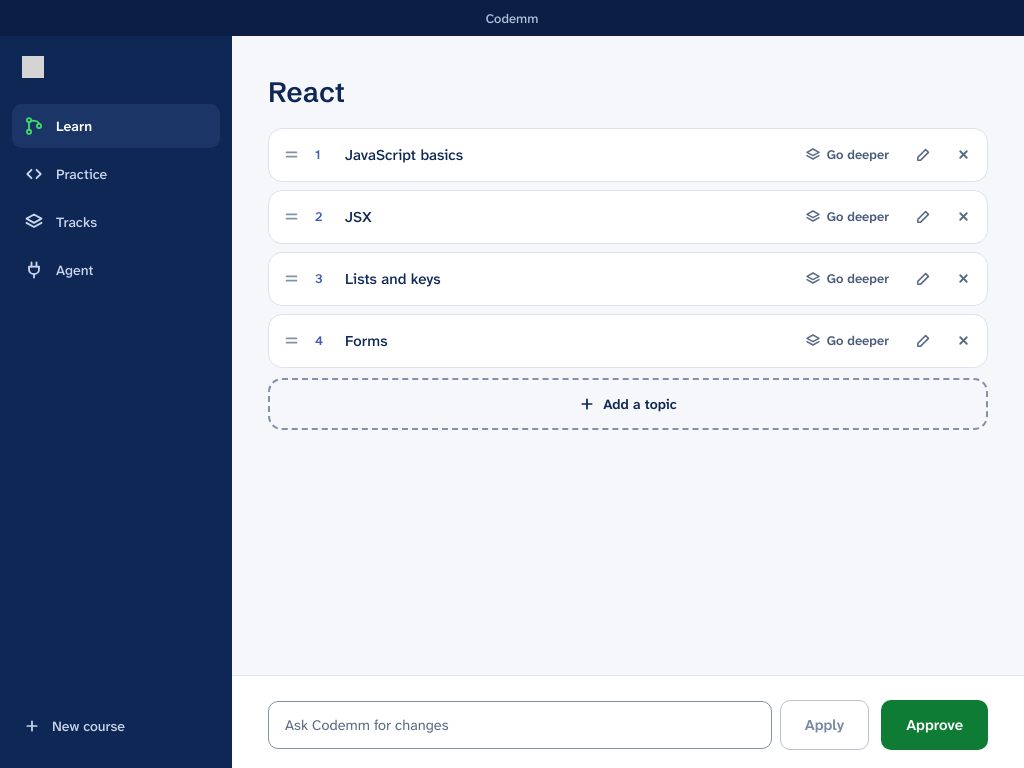
Test: course editor › refuses edits that would break a prerequisite, and says why
Expected: the heading "React" is shown, [268,75,345,109]
Click the button named "Move JSX".
click(291, 217)  # box [275,201,307,233]
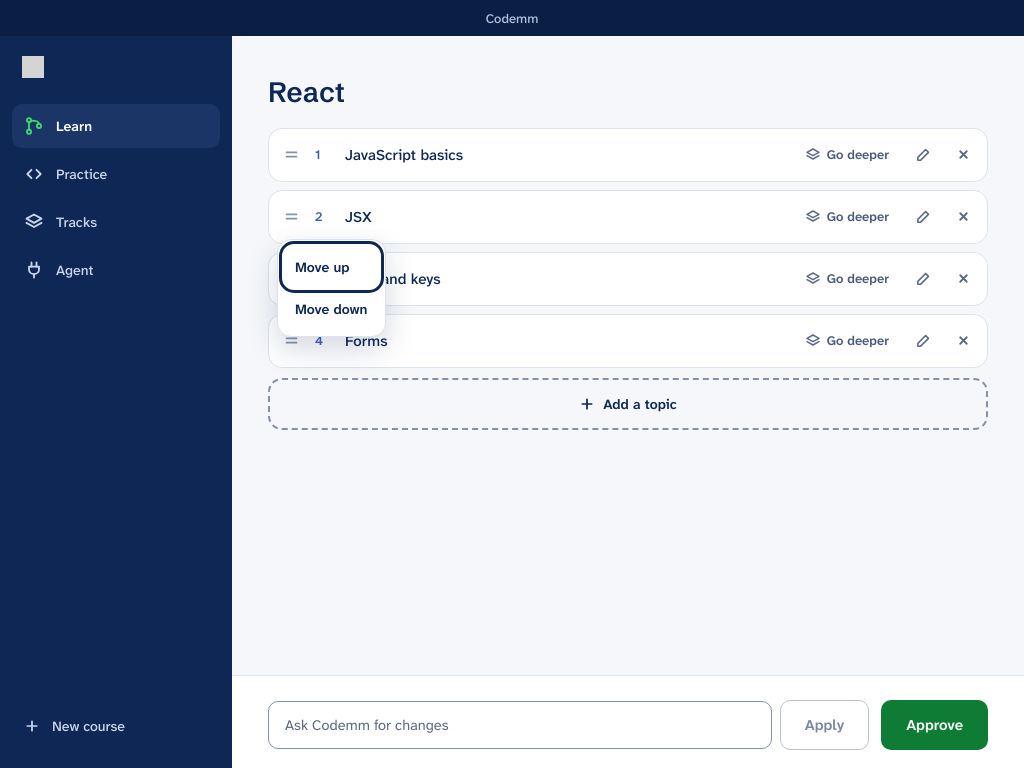
Click the menu item "Move up".
click(331, 267)  # box [284,246,378,288]
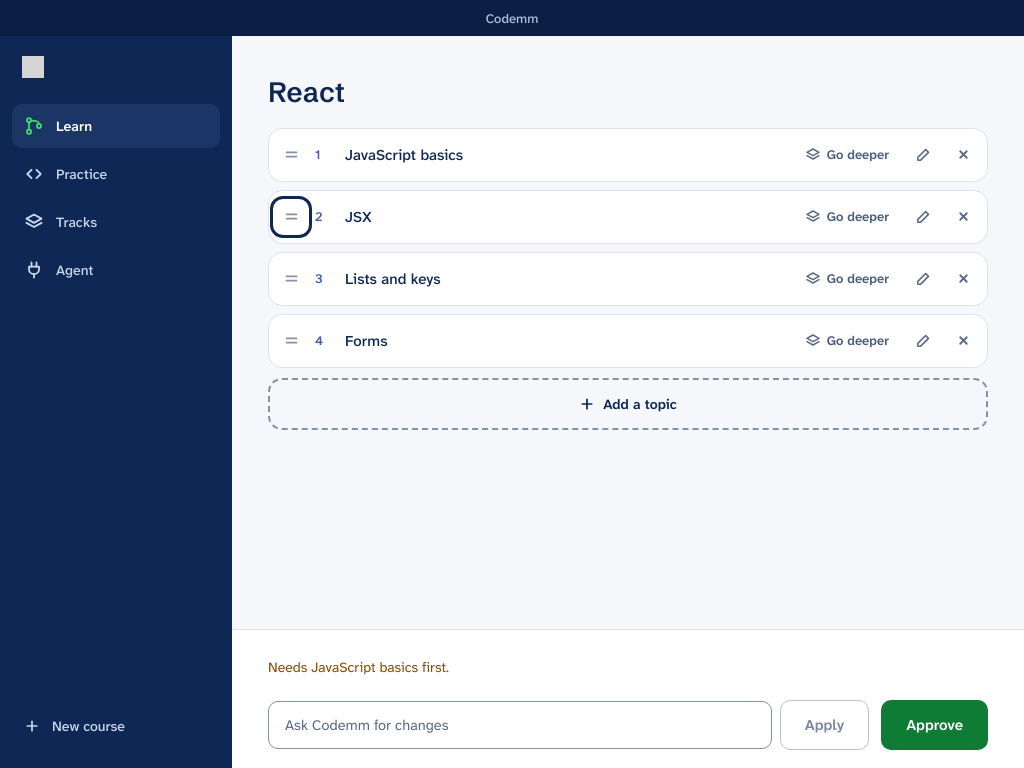
Now the message reads "Needs JavaScript basics first.", box [268,658,449,676]
Click the button named "Remove JavaScript basics".
click(963, 155)  # box [947,139,979,171]
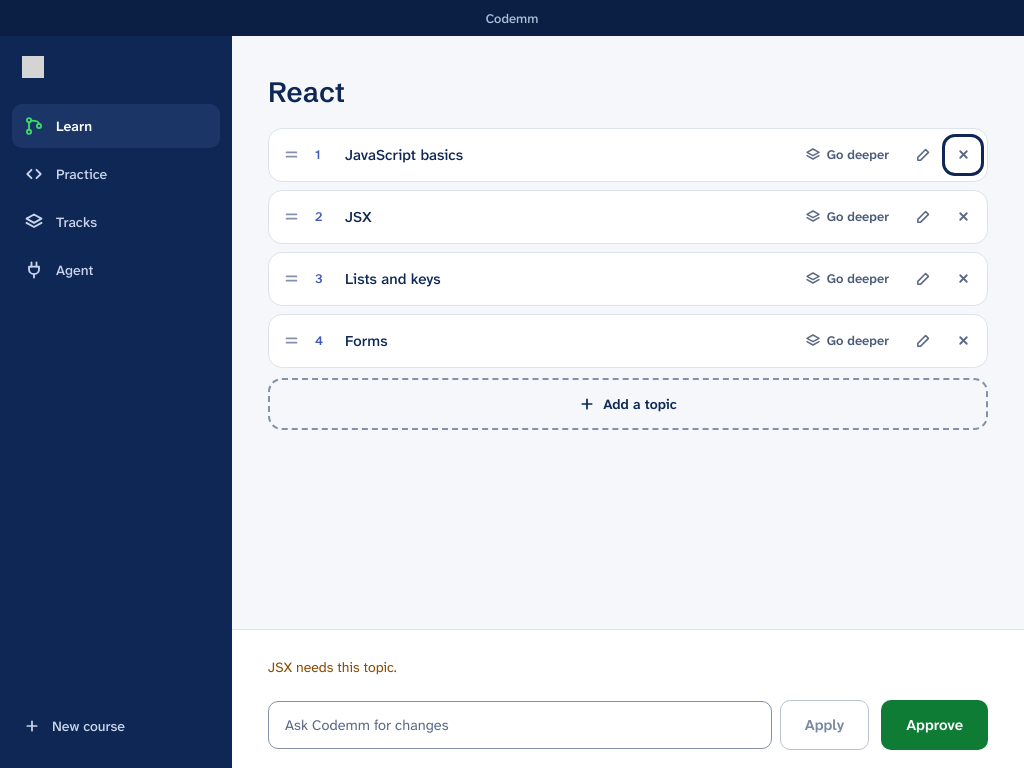
Now the message reads "JSX needs this topic.", box [268,658,397,676]
